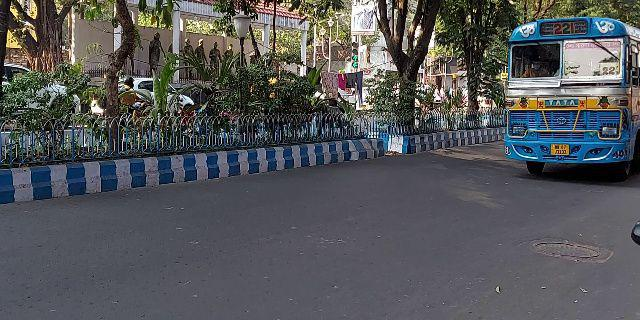Bus: (502, 17, 640, 178)
